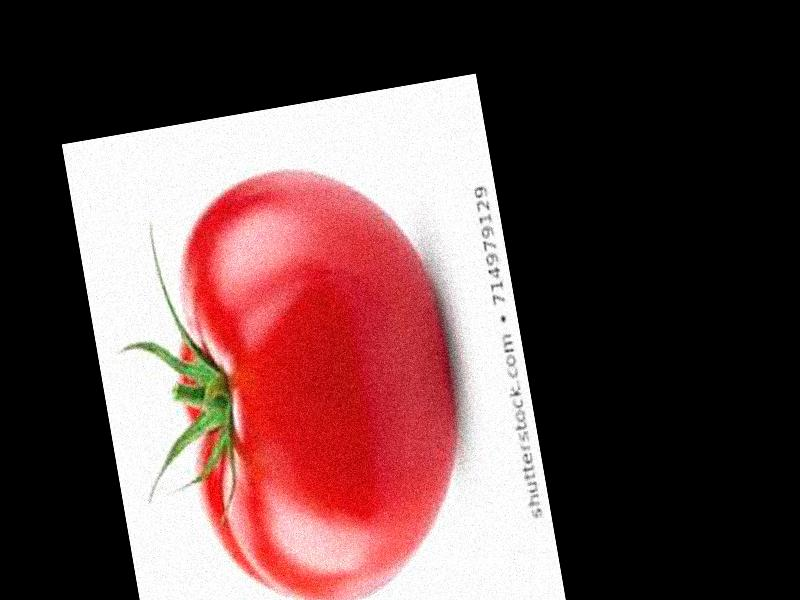Tomato: (151, 149, 483, 600)
